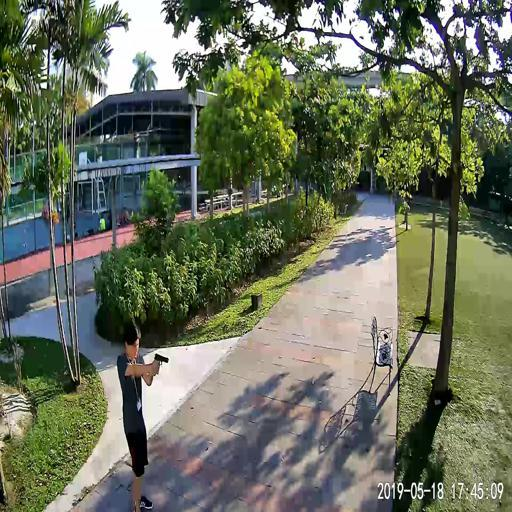Handgun: (152, 350, 167, 366)
